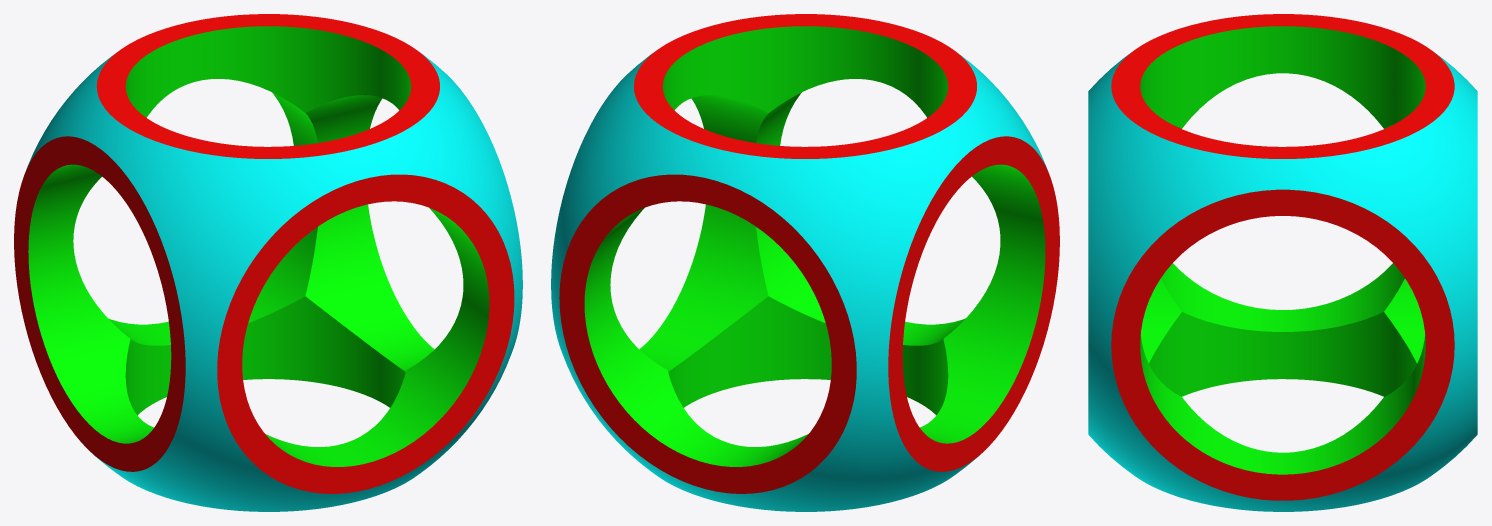
Rendered from csg.glb.
3 views of the same model, side by side, from view 1: azimuth 30°, elevation 25°; view 2: azimuth 150°, elevation 25°; view 3: azimuth 270°, elevation 25° (orthographic).
Visible parts, largest first — view 1: =>[0:1:1:2]; view 2: =>[0:1:1:2]; view 3: =>[0:1:1:2].
Boxes of the visible parts, x1=… form: =>[0:1:1:2]: x1=14, y1=14, x2=522, y2=511; =>[0:1:1:2]: x1=551, y1=14, x2=1059, y2=511; =>[0:1:1:2]: x1=1088, y1=14, x2=1477, y2=511.
Bounding box in the file's own units: 1.5 × 1.5 × 1.5.
